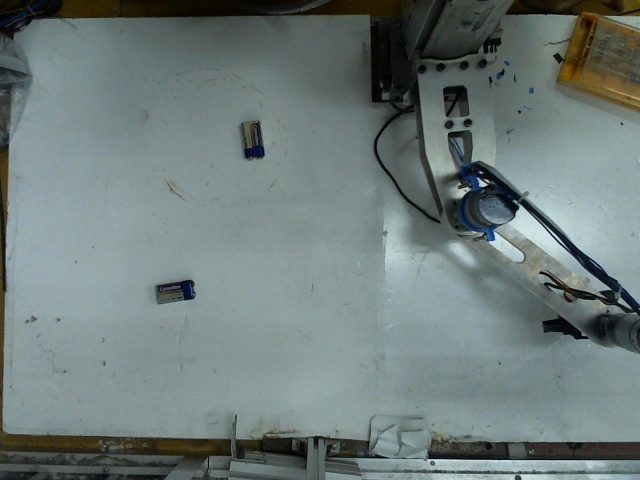battery: (235, 118, 270, 161), (150, 276, 196, 303)
